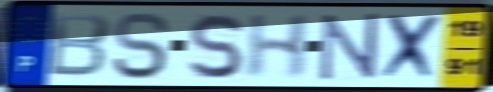B: (45, 11, 112, 80)
H: (242, 12, 314, 81)
N: (318, 11, 381, 83)
S: (109, 10, 173, 82), (186, 11, 246, 81)
X: (377, 11, 447, 83)
